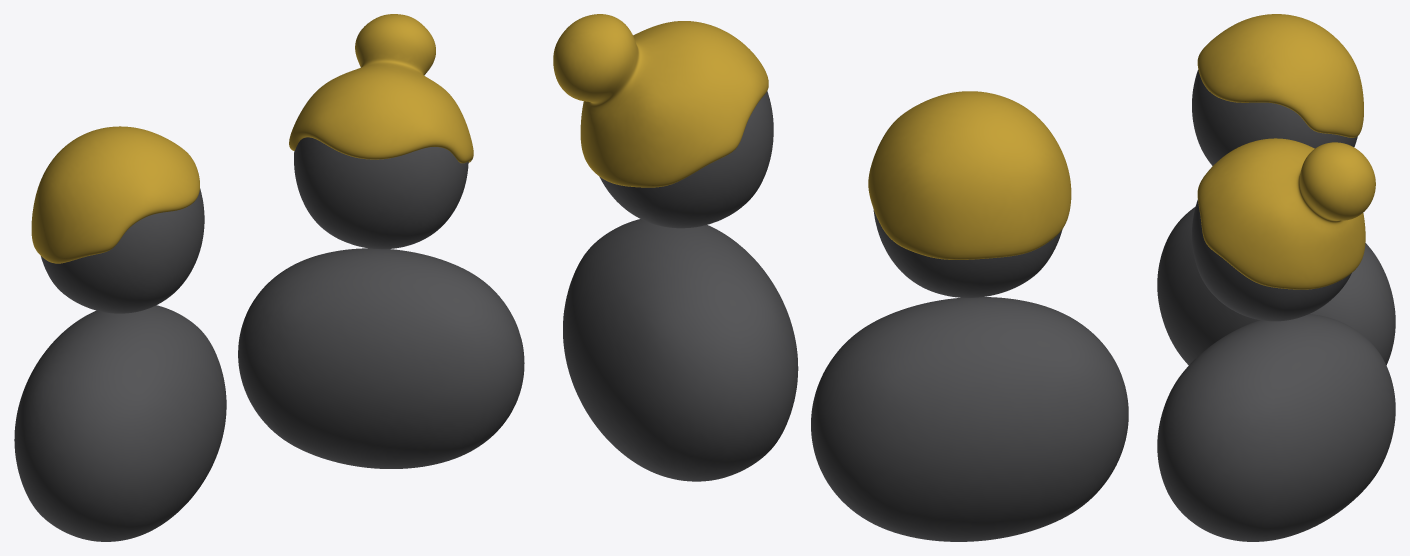
The model's file is boygirl.glb.
The picture shows the model from 3 angles, left to right: view 1: azimuth 30°, elevation 25°; view 2: azimuth 150°, elevation 25°; view 3: azimuth 270°, elevation 25°; orthographic projection. The views are drawn at different scales.
Parts seen in each view (by area): view 1: Boy, Girl; view 2: Boy, Girl; view 3: Boy, Girl.
Part boxes in pixels (bbox=[...]): Boy: bbox=[14, 126, 524, 541]; Girl: bbox=[289, 14, 473, 163]; Boy: bbox=[563, 91, 1128, 541]; Girl: bbox=[553, 14, 768, 187]; Boy: bbox=[1157, 14, 1395, 541]; Girl: bbox=[1197, 138, 1375, 289].
Size of the model in its own units: 2.38 by 1.93 by 1.04.
